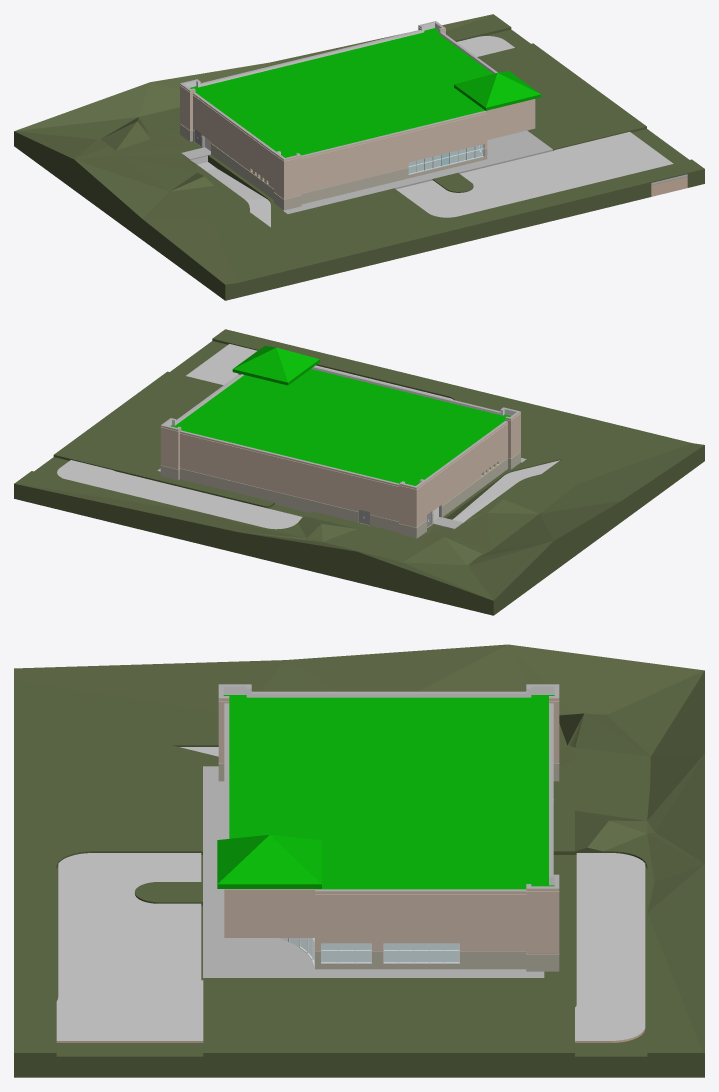
The model's file is GSGSample.glb.
3 views of the same model, one above another, from view 1: azimuth 30°, elevation 25°; view 2: azimuth 150°, elevation 25°; view 3: azimuth 270°, elevation 25° (orthographic). The views are drawn at different scales.
Visible parts, largest first — view 1: Toposolid[2147484004], Basic Roof[367671], Toposolid[2147484122], Basic Wall[351981], Basic Wall[352387], Floor[2147484077], Basic Roof[368512], Floor[2147484054], Basic Wall[355487], Basic Wall[352768], Basic Wall[352127], Basic Wall[352511]; view 2: Toposolid[2147484004], Basic Roof[367671], Basic Wall[352768], Toposolid[2147484122], Basic Wall[352387], Basic Roof[368512], Basic Wall[352869], Basic Wall[351981], Basic Wall[352574], Basic Wall[352511]; view 3: Toposolid[2147484004], Basic Roof[367671], Toposolid[2147484122], Basic Wall[353146], Floor[2147484077], Basic Roof[368512], Floor[2147484054], Basic Wall[355372], Basic Wall[352925], Basic Wall[352387], Basic Wall[352768], Basic Wall[351981].
Boxes of the visible parts, x1=… form: Toposolid[2147484004]: x1=14, y1=14, x2=704, y2=300; Basic Roof[367671]: x1=190, y1=28, x2=492, y2=157; Toposolid[2147484122]: x1=197, y1=36, x2=687, y2=227; Basic Wall[351981]: x1=301, y1=110, x2=487, y2=204; Basic Wall[352387]: x1=193, y1=92, x2=275, y2=199; Floor[2147484077]: x1=283, y1=130, x2=553, y2=213; Basic Roof[368512]: x1=454, y1=71, x2=541, y2=110; Floor[2147484054]: x1=181, y1=134, x2=530, y2=173; Basic Wall[355487]: x1=486, y1=99, x2=532, y2=139; Basic Wall[352768]: x1=200, y1=30, x2=421, y2=86; Basic Wall[352127]: x1=282, y1=155, x2=298, y2=210; Basic Wall[352511]: x1=180, y1=83, x2=190, y2=140; Toposolid[2147484004]: x1=14, y1=329, x2=704, y2=615; Basic Roof[367671]: x1=170, y1=369, x2=510, y2=485; Basic Wall[352768]: x1=180, y1=430, x2=399, y2=532; Toposolid[2147484122]: x1=57, y1=344, x2=559, y2=529; Basic Wall[352387]: x1=425, y1=421, x2=507, y2=528; Basic Roof[368512]: x1=232, y1=346, x2=319, y2=385; Basic Wall[352869]: x1=160, y1=424, x2=176, y2=479; Basic Wall[351981]: x1=312, y1=366, x2=500, y2=414; Basic Wall[352574]: x1=402, y1=483, x2=415, y2=537; Basic Wall[352511]: x1=414, y1=481, x2=425, y2=538; Toposolid[2147484004]: x1=14, y1=644, x2=704, y2=1077; Basic Roof[367671]: x1=223, y1=695, x2=554, y2=889; Toposolid[2147484122]: x1=56, y1=747, x2=645, y2=1042; Basic Wall[353146]: x1=315, y1=889, x2=526, y2=969; Floor[2147484077]: x1=203, y1=766, x2=544, y2=979; Basic Roof[368512]: x1=217, y1=834, x2=321, y2=888; Floor[2147484054]: x1=229, y1=938, x2=459, y2=966; Basic Wall[355372]: x1=224, y1=889, x2=314, y2=937; Basic Wall[352925]: x1=531, y1=886, x2=554, y2=971; Basic Wall[352387]: x1=251, y1=691, x2=526, y2=697; Basic Wall[352768]: x1=549, y1=703, x2=553, y2=874; Basic Wall[351981]: x1=224, y1=703, x2=229, y2=839.
Bounding box in the file's own units: 79027 × 13446 × 60308.
